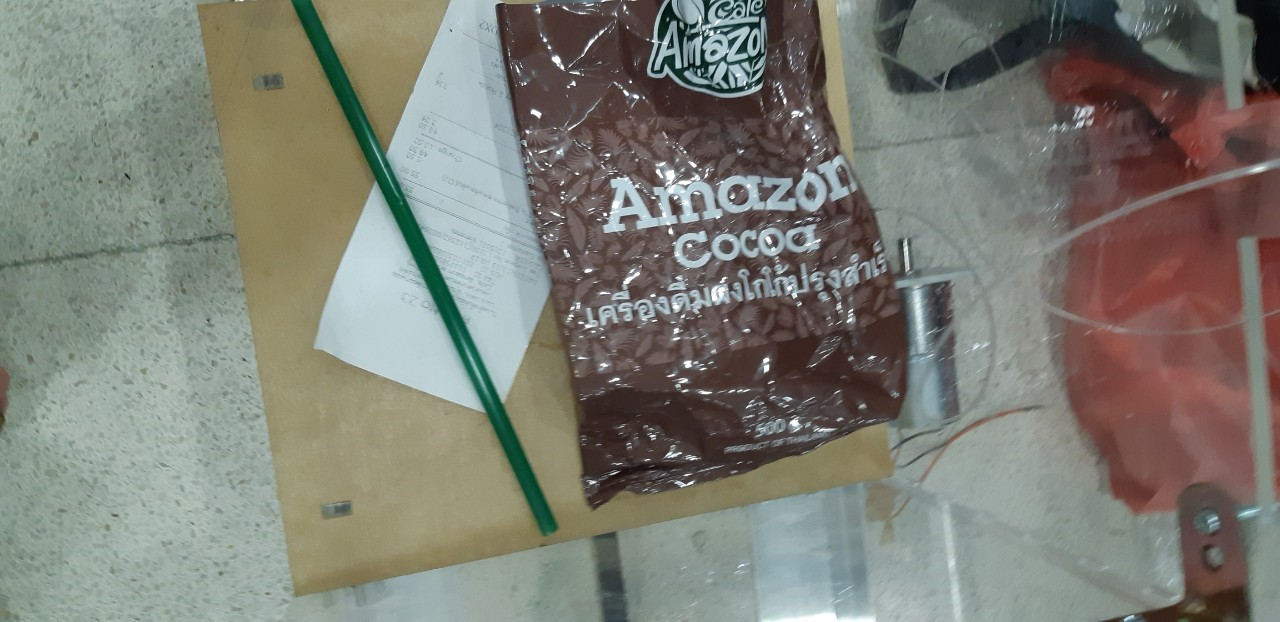Others: (492, 2, 908, 508), (291, 4, 559, 539), (317, 13, 548, 415)
